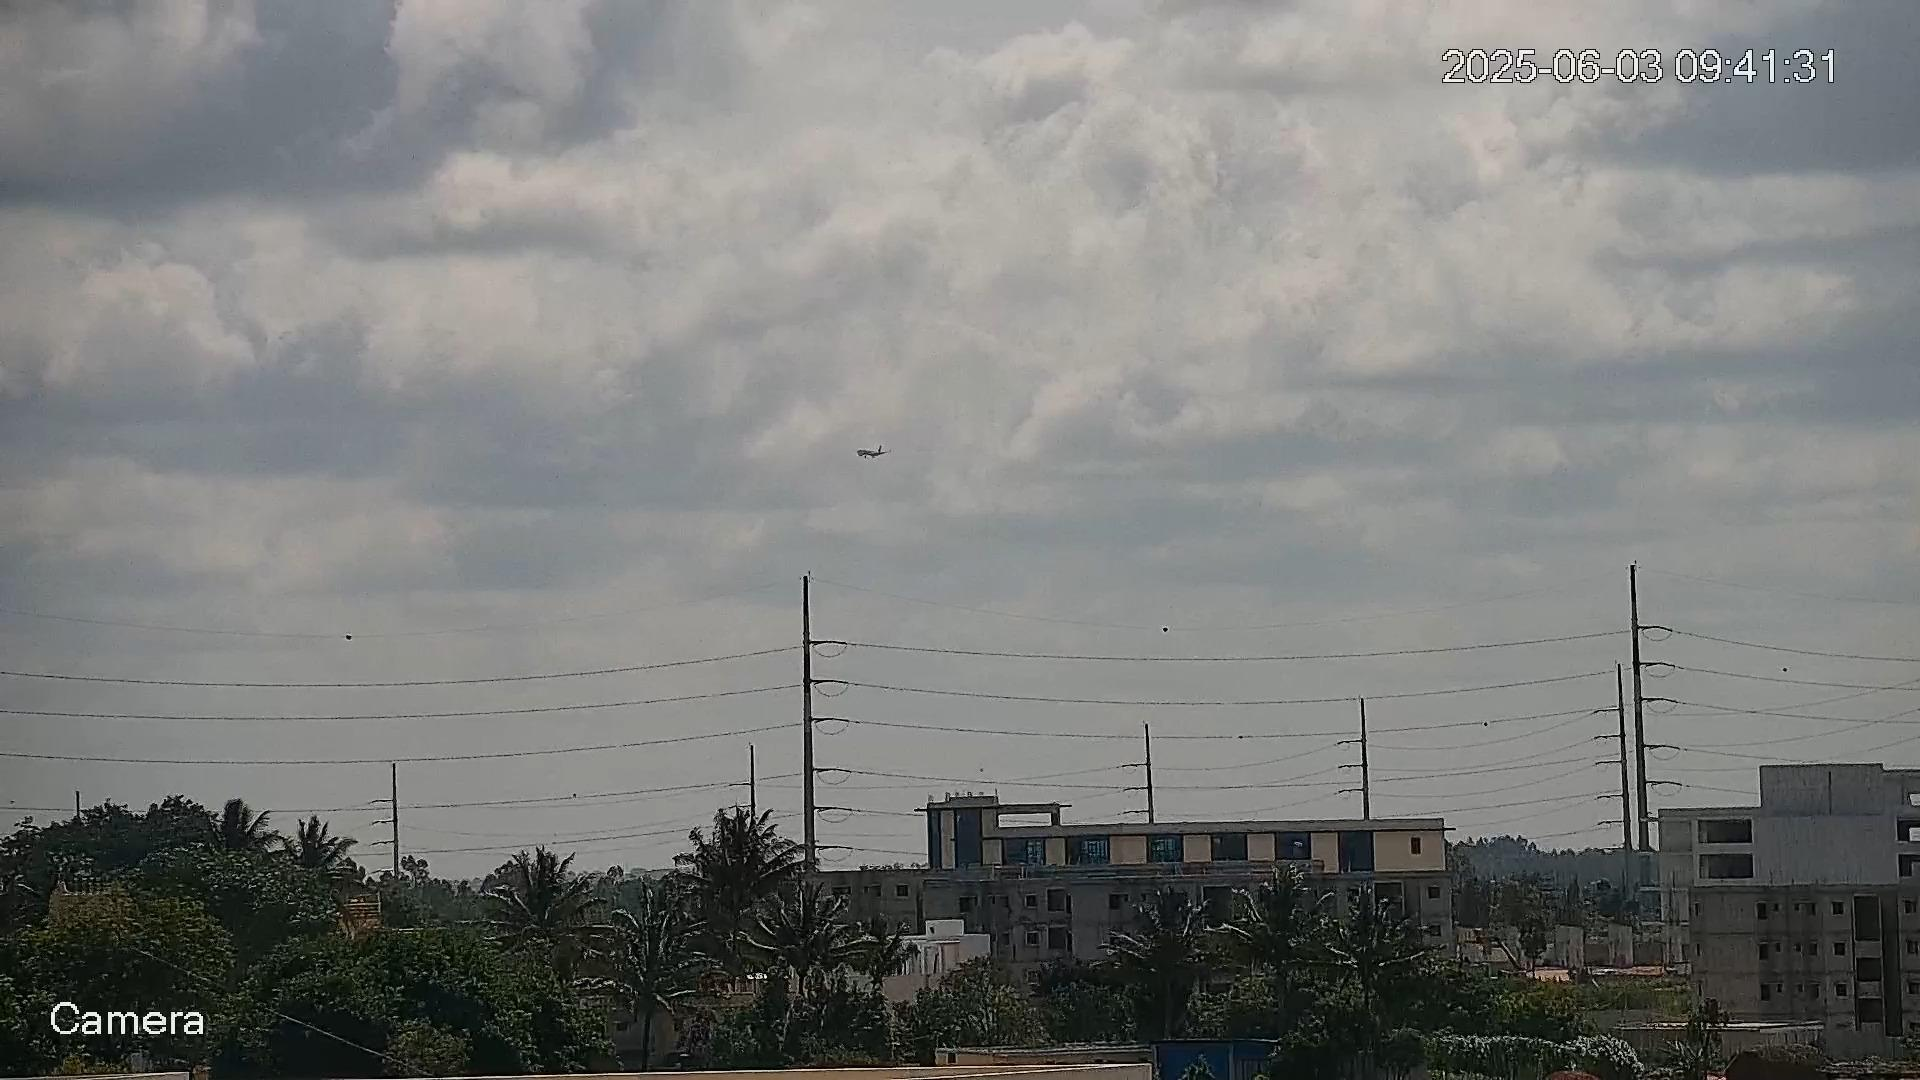Aircraft: (855, 442, 893, 463)
